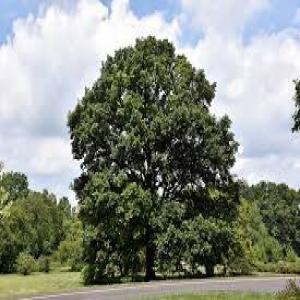Tree: (65, 30, 240, 280)
